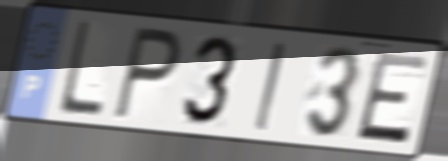3: (297, 43, 367, 141), (180, 33, 242, 130)
E: (352, 49, 432, 148)
I: (251, 39, 288, 135)
L: (55, 18, 105, 120)
P: (110, 23, 185, 125)
